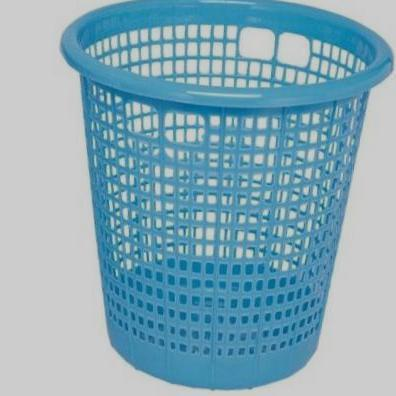Bote de Basura: (62, 2, 395, 389)
